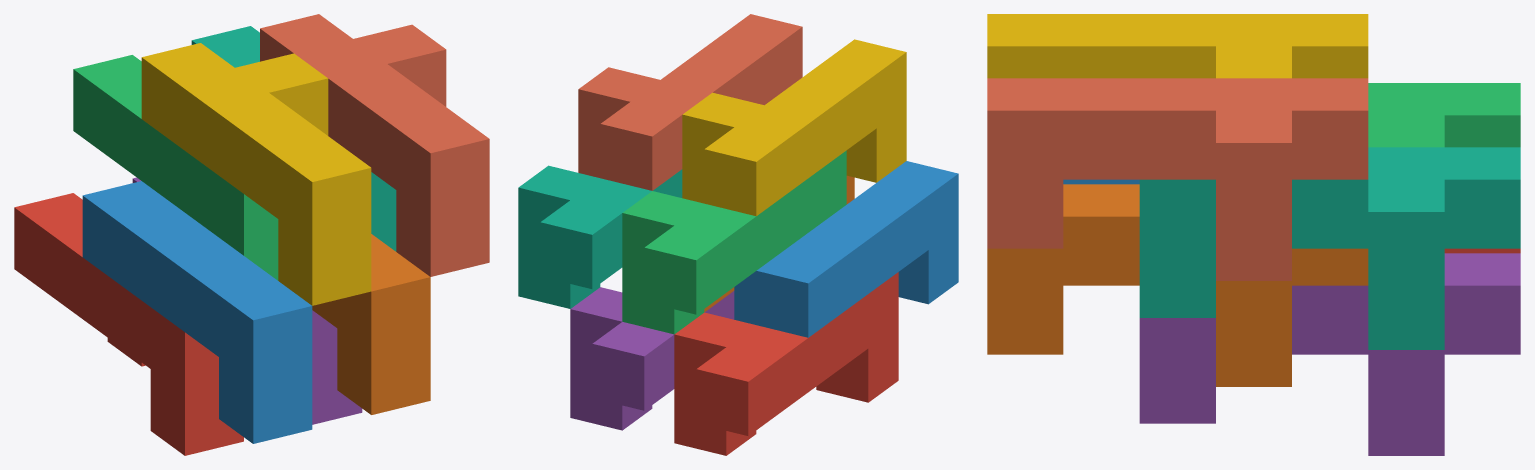
The model's file is tiling.obj.
3 views of the same model, side by side, from view 1: azimuth 30°, elevation 25°; view 2: azimuth 150°, elevation 25°; view 3: azimuth 270°, elevation 25° (orthographic). The views are drawn at different scales.
Parts seen in each view (by area): view 1: copy_1_domain_4, copy_1_domain_2, copy_1_domain_8, copy_1_domain_1, copy_1_domain_3, copy_1_domain_6, copy_1_domain_7, copy_1_domain_5; view 2: copy_1_domain_4, copy_1_domain_1, copy_1_domain_2, copy_1_domain_3, copy_1_domain_8, copy_1_domain_7, copy_1_domain_5; view 3: copy_1_domain_8, copy_1_domain_7, copy_1_domain_5, copy_1_domain_6, copy_1_domain_4, copy_1_domain_3.
Part boxes in pixels (box(x1,y1,x2,y2)): copy_1_domain_4: box(141, 43, 371, 305); copy_1_domain_2: box(82, 181, 312, 443); copy_1_domain_8: box(260, 14, 489, 276); copy_1_domain_1: box(14, 193, 243, 455); copy_1_domain_3: box(73, 55, 278, 280); copy_1_domain_6: box(312, 234, 430, 414); copy_1_domain_7: box(191, 26, 396, 251); copy_1_domain_5: box(132, 177, 362, 424); copy_1_domain_4: box(682, 39, 906, 216); copy_1_domain_1: box(674, 272, 898, 455); copy_1_domain_2: box(734, 161, 958, 337); copy_1_domain_3: box(622, 150, 846, 334); copy_1_domain_8: box(578, 14, 802, 190); copy_1_domain_7: box(518, 165, 682, 308); copy_1_domain_5: box(570, 287, 734, 430); copy_1_domain_8: box(987, 78, 1368, 280); copy_1_domain_7: box(1139, 147, 1520, 349); copy_1_domain_5: box(1139, 253, 1520, 455); copy_1_domain_6: box(987, 184, 1368, 386); copy_1_domain_4: box(987, 14, 1368, 78); copy_1_domain_3: box(1368, 83, 1520, 147).
Bounding box in the file's own units: 5 × 5 × 7.
